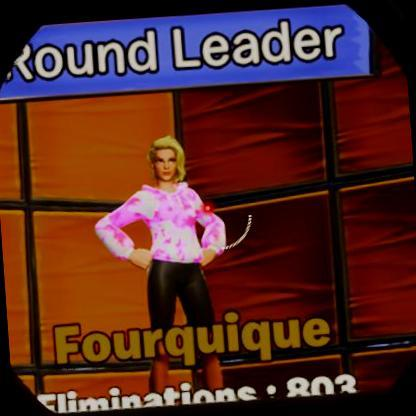person: (87, 126, 235, 371)
